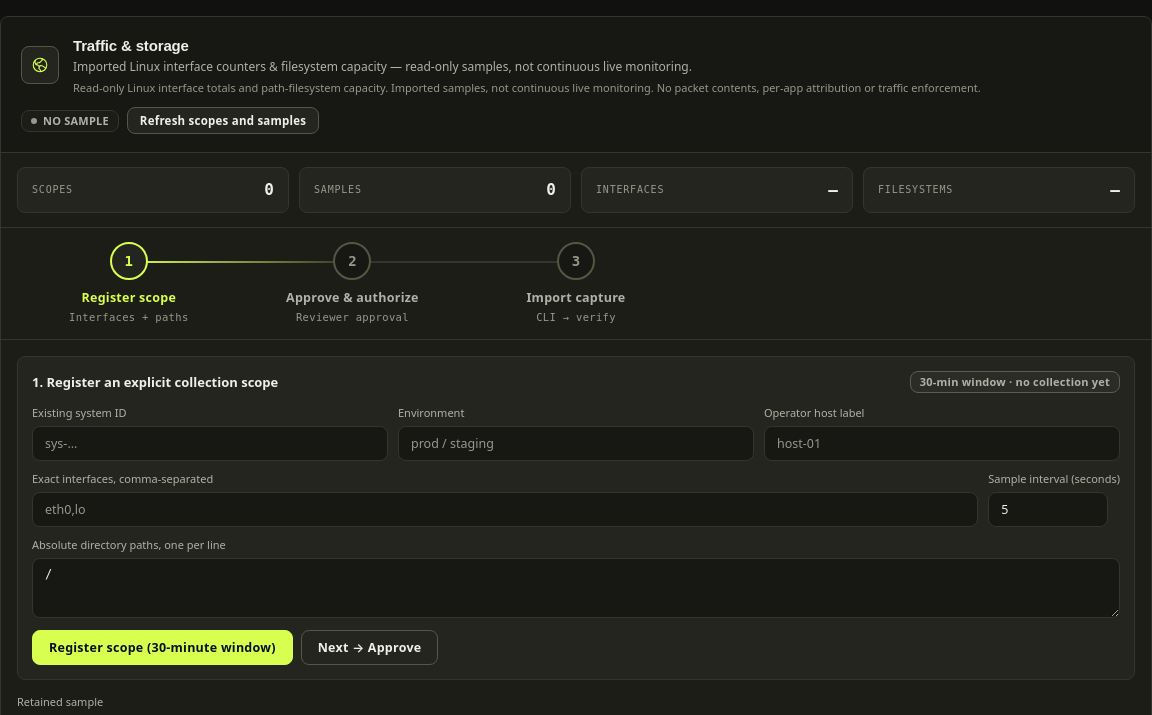
Test: does not keep a previous successful report after a backend refusal
Click the button "Refresh scopes and samples" at {"x": 223, "y": 121}, box [127, 108, 319, 134]
(page scrolled)
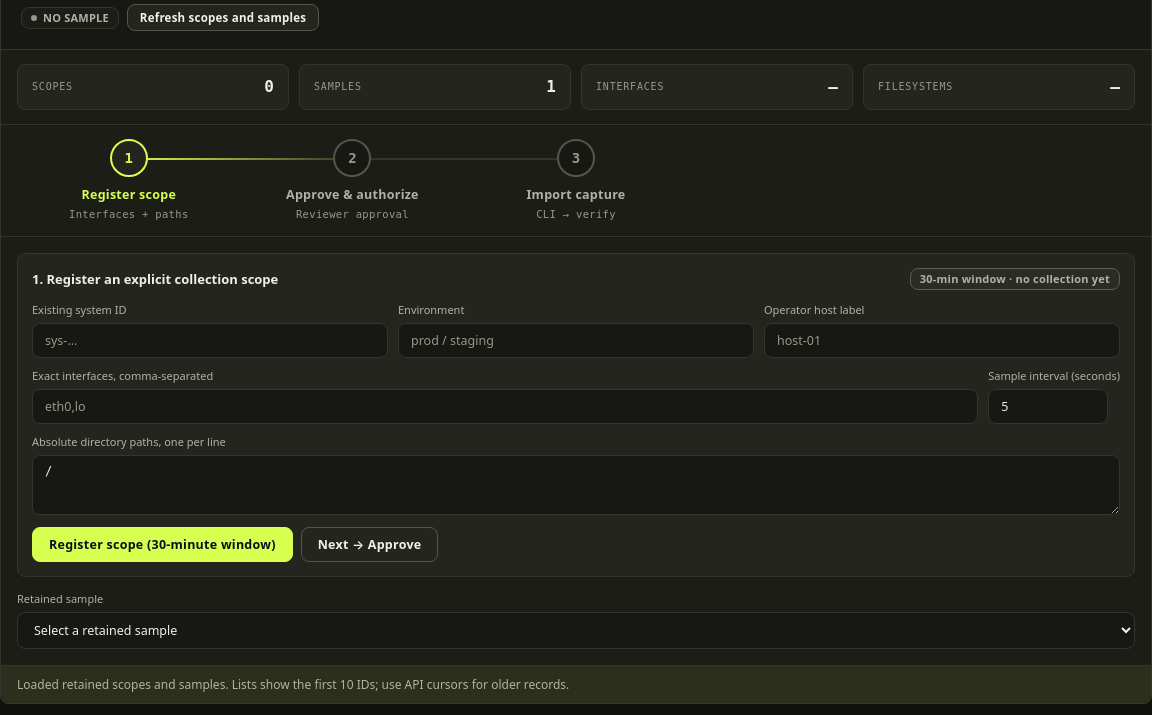
Select "synthetic-linux — recent" in the dropdown labelled "Retained sample" at {"x": 576, "y": 630}, box [17, 612, 1135, 649]
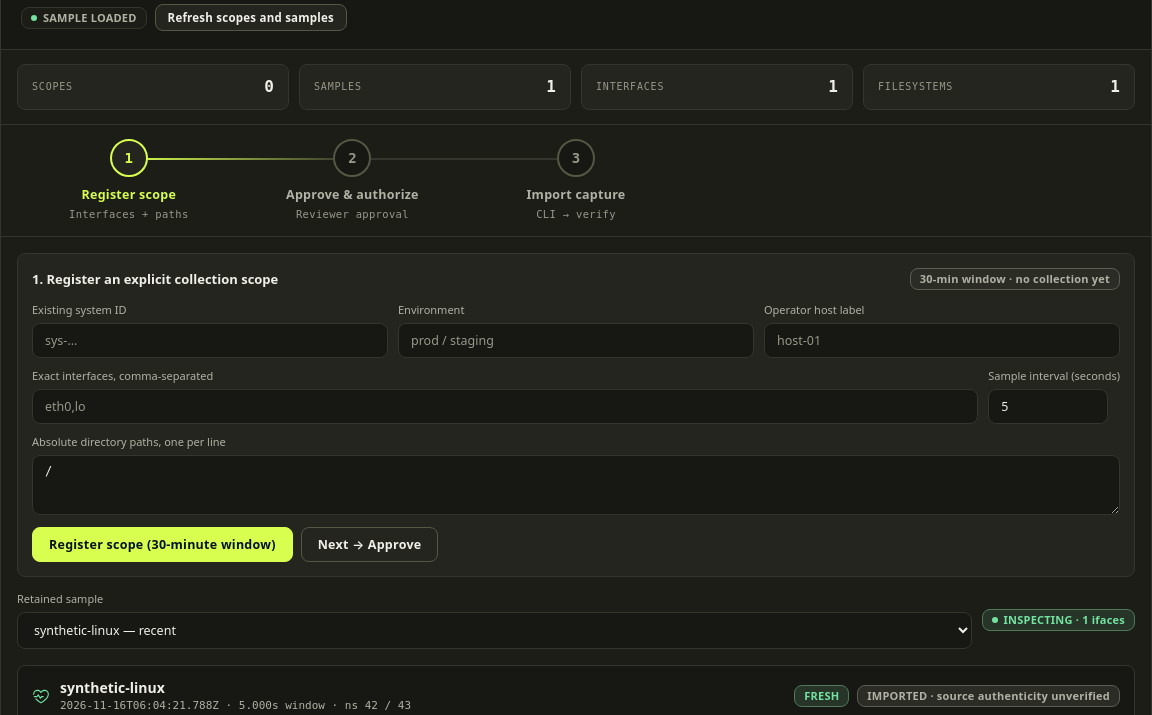
Expected: the text "synthetic-linux" is shown, [60, 678, 165, 697]
Click the button "Refresh scopes and samples" at {"x": 251, "y": 18}, box [155, 4, 347, 32]
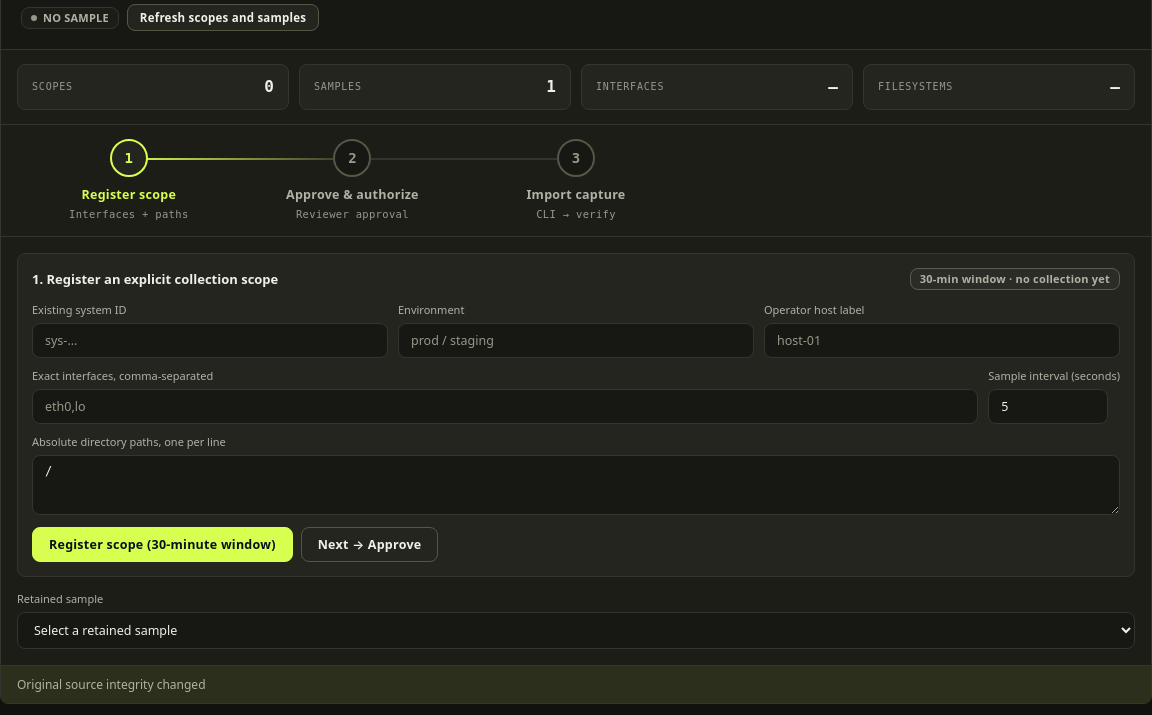
Expected: the text "Original source integrity changed" is shown, [1, 665, 1151, 703]
